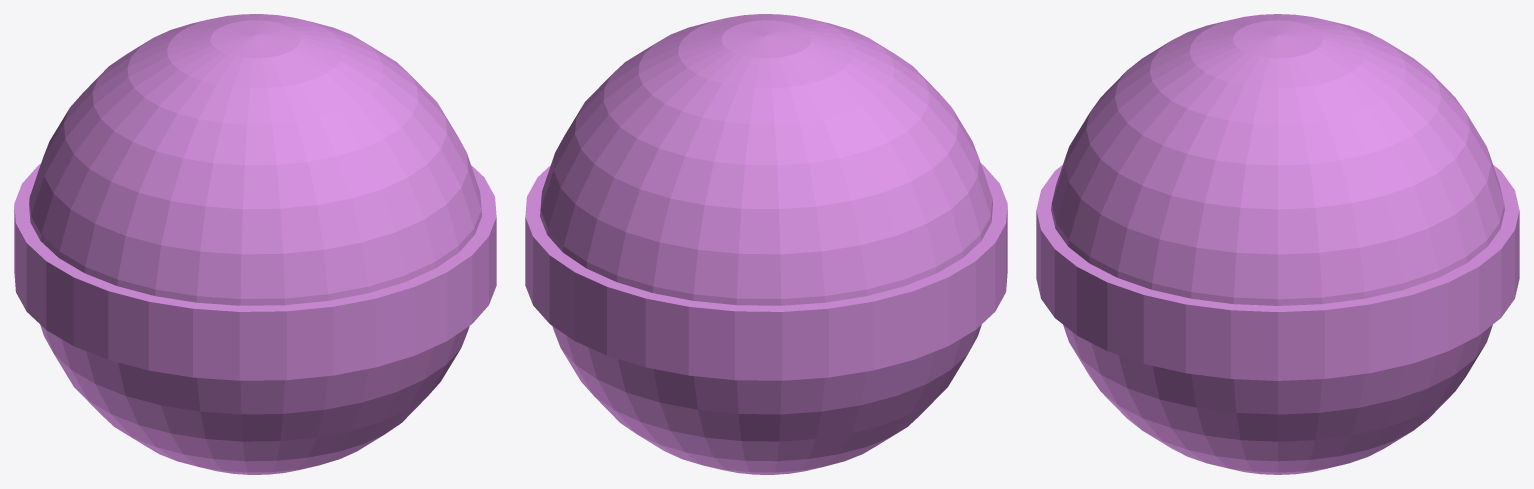
Rendered from bath bomb.fbx.
3 views of the same model, side by side, from view 1: azimuth 30°, elevation 25°; view 2: azimuth 150°, elevation 25°; view 3: azimuth 270°, elevation 25° (orthographic).
Visible parts, largest first — view 1: Cylinder; view 2: Cylinder; view 3: Cylinder.
Boxes of the visible parts, x1,y1,x2,y2 form: Cylinder: (14,14,496,474); Cylinder: (525,14,1007,474); Cylinder: (1036,14,1519,474).
Bounding box in the file's own units: 603 × 576 × 603.
